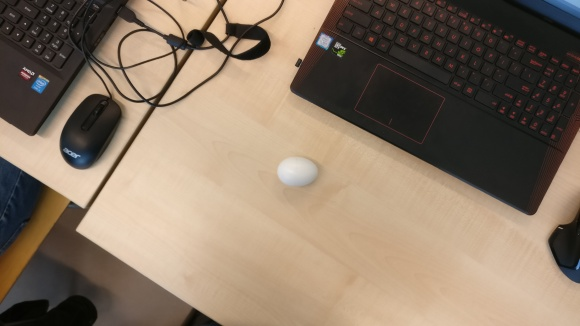egg: (276, 155, 319, 190)
